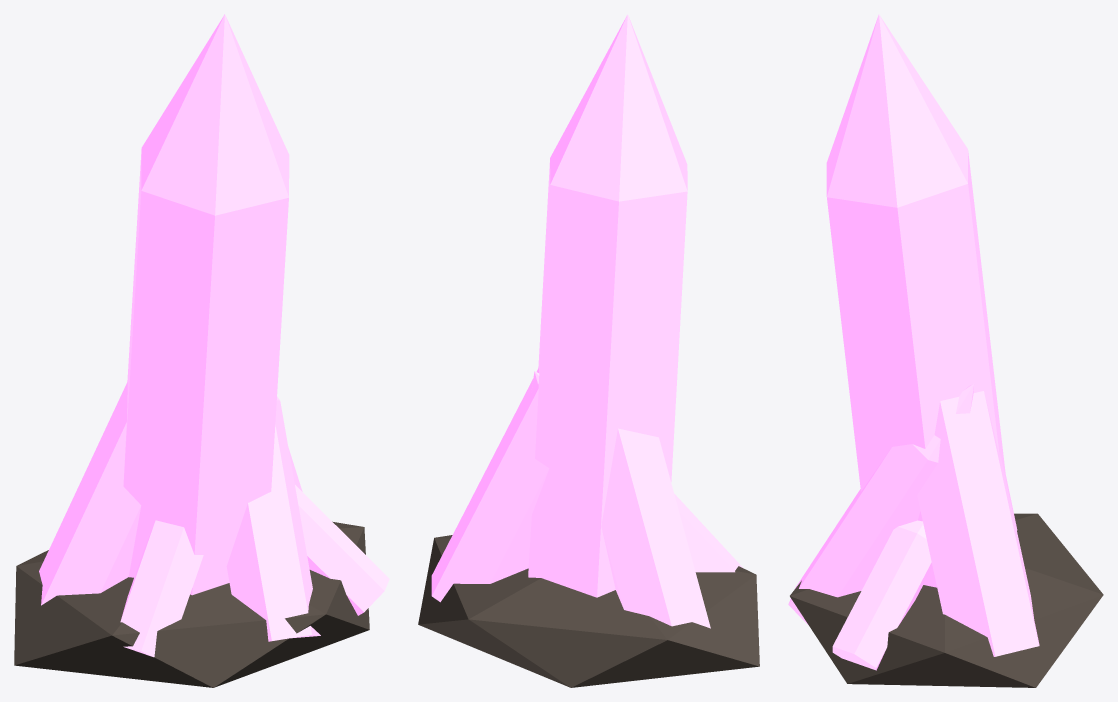
Rendered from mine_crystal_large.fbx.
The picture shows the model from 3 angles, left to right: view 1: azimuth 30°, elevation 25°; view 2: azimuth 150°, elevation 25°; view 3: azimuth 270°, elevation 25°; orthographic projection. The views are drawn at different scales.
Parts seen in each view (by area): view 1: mine_crystal_large; view 2: mine_crystal_large; view 3: mine_crystal_large.
Part boxes in pixels (x1=…): mine_crystal_large: x1=14, y1=14, x2=389, y2=687; mine_crystal_large: x1=418, y1=14, x2=759, y2=687; mine_crystal_large: x1=788, y1=14, x2=1103, y2=687.
Bounding box in the file's own units: 1.23 × 2.19 × 1.
